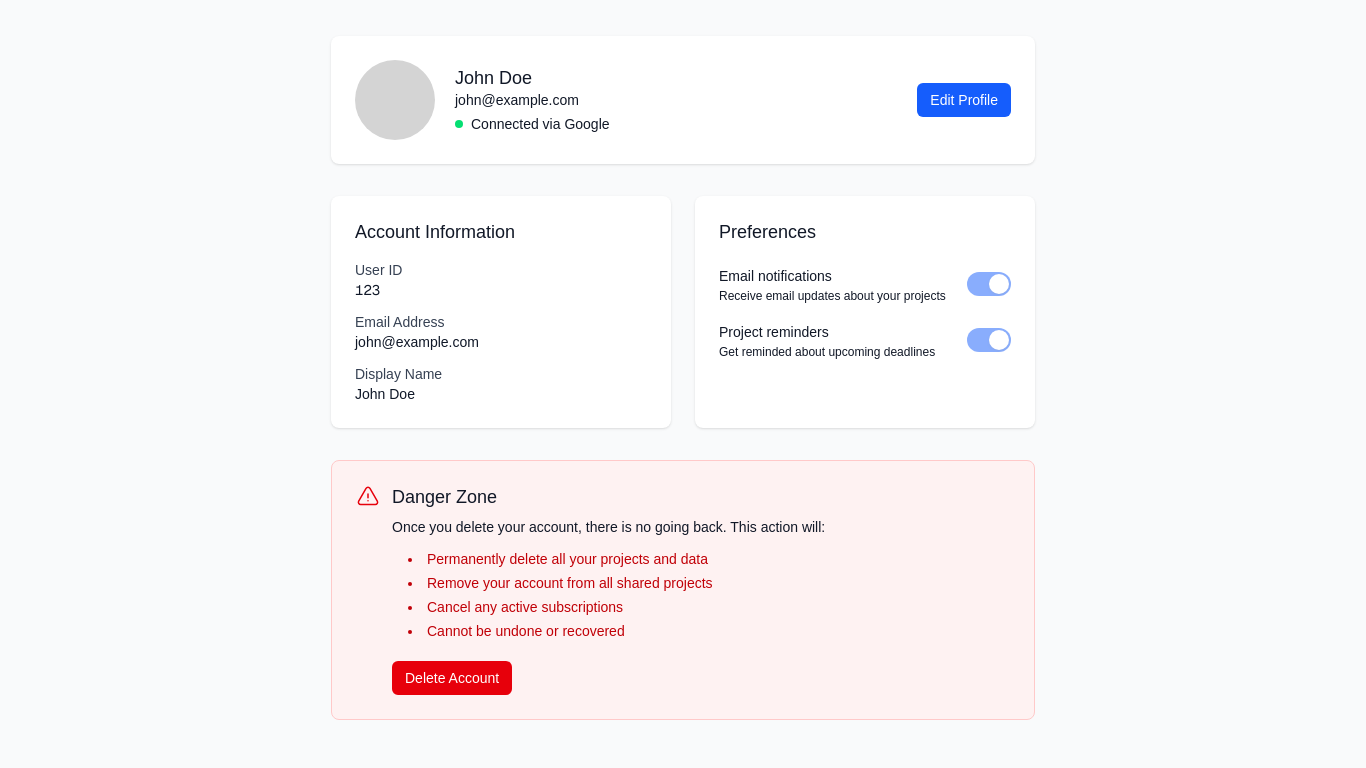
Profile Page › shows delete account confirmation modal
This screenshot has width=1366, height=768.
(page scrolled)
Click the button "Delete Account". click: point(452, 678)
box: top-left (392, 661), bottom-right (512, 695)
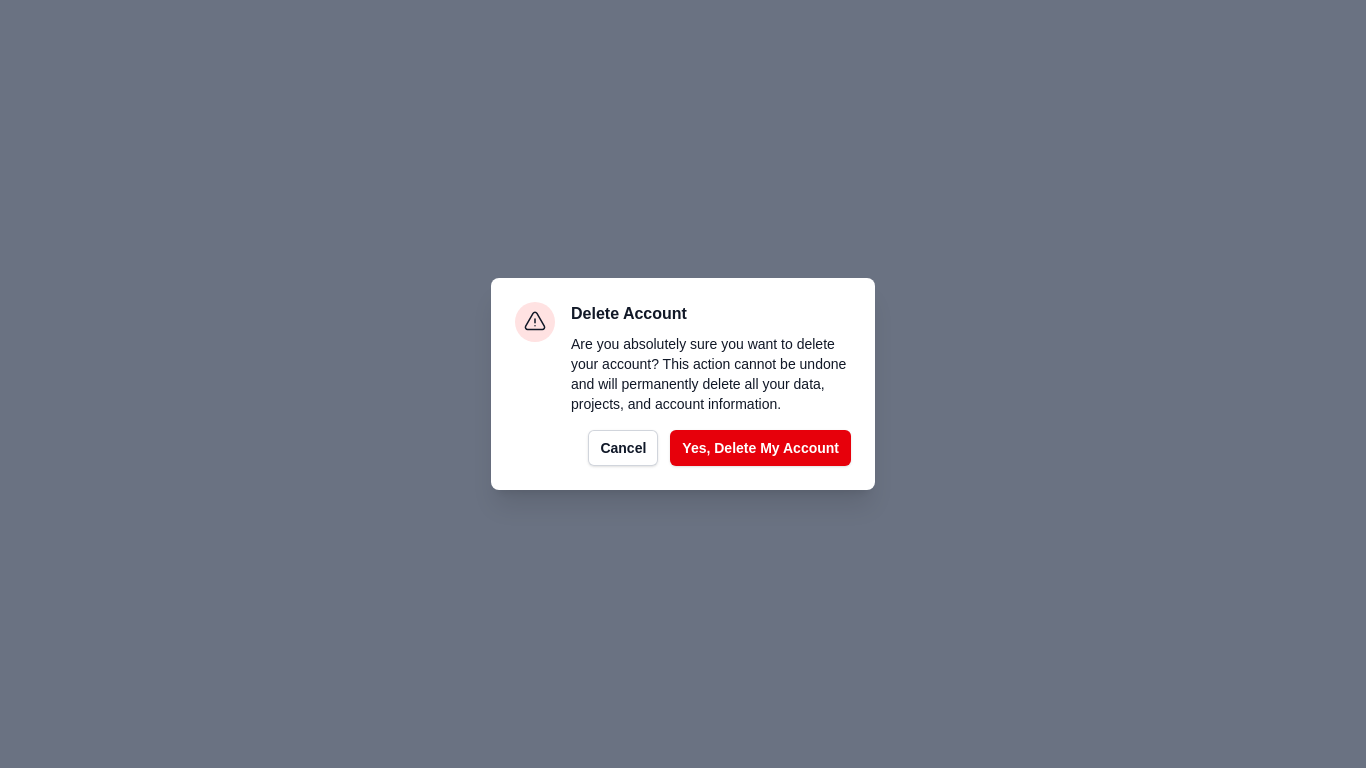
Expected: the heading "Delete Account" is shown, top-left (571, 305), bottom-right (687, 322)
Expected: the text "Are you absolutely sure you want to delete your account" is shown, top-left (571, 336), bottom-right (846, 412)
Expected: the button "Yes, Delete My Account" is shown, top-left (670, 430), bottom-right (851, 466)
